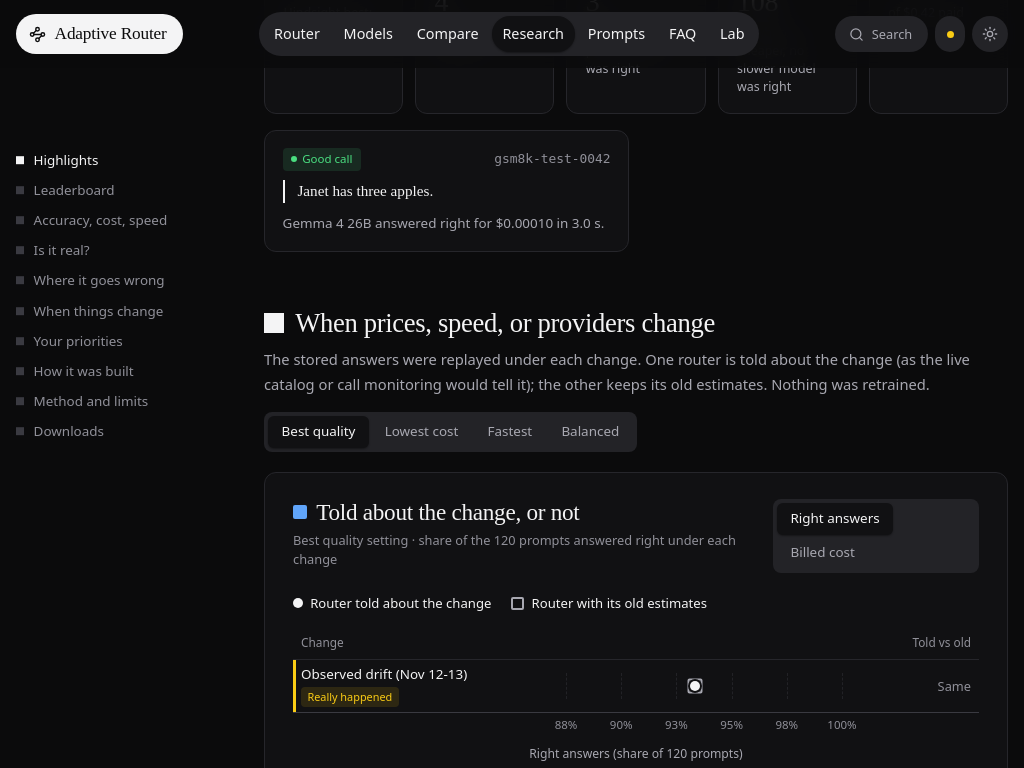
Test case: draws the robustness scenarios as dumbbells that follow the priority and the measure
The image size is (1024, 768).
(page scrolled)
Check: the text "Really happened" is shown, box 301,687 -> 399,707
Check: the text "Same" is shown, box 938,677 -> 971,695
Click the button "Fastest".
click(510, 432)  # box 474,416 -> 546,448
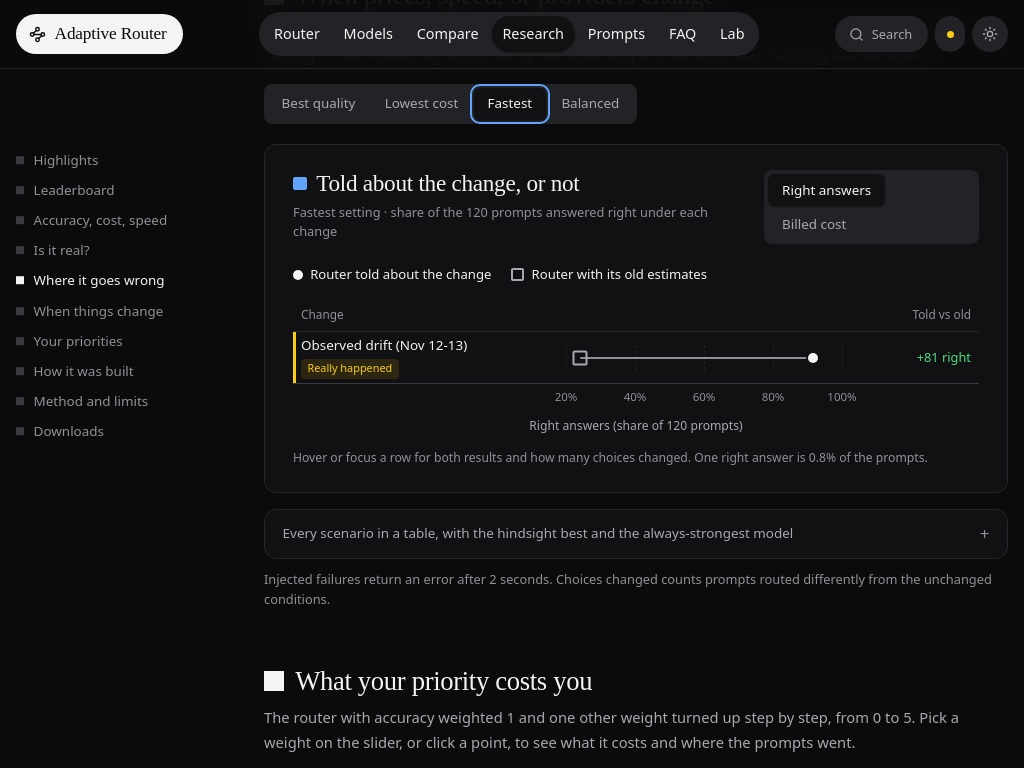
Check: the list item "Observed drift (Nov 12-13) Really happened +81 right" is shown
Check: the text "+81 right" is shown, box 917,348 -> 971,366
Focus the list item at [636, 357], box 293,331 -> 979,383
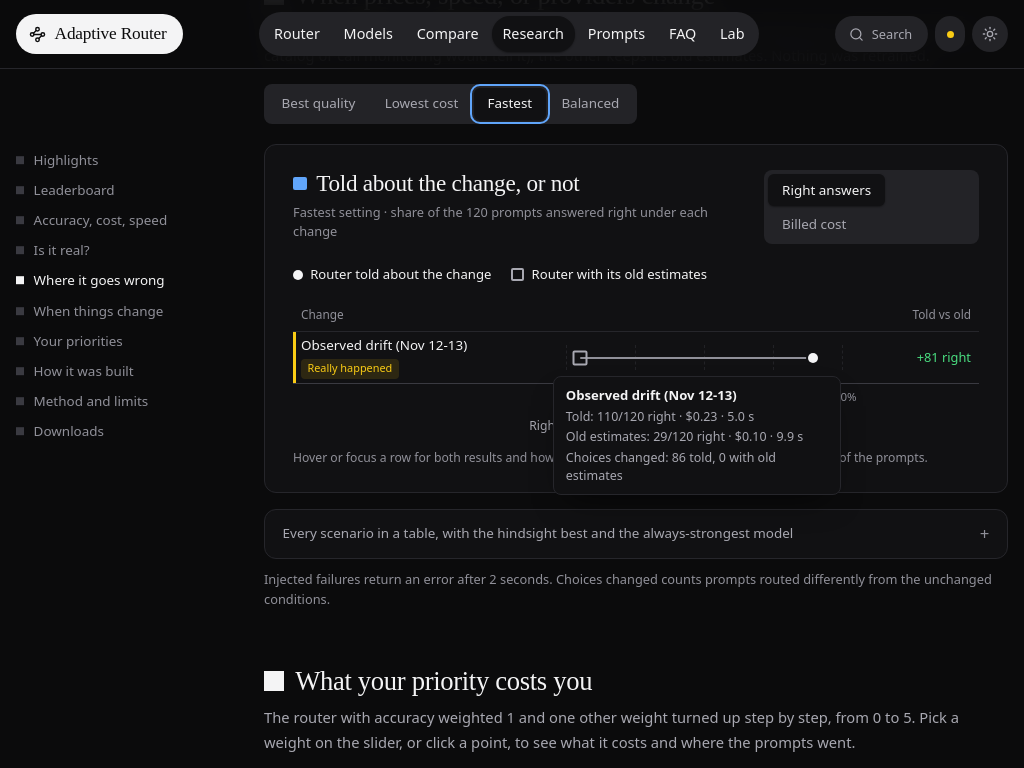
Check: the text "Choices changed: 86 told, 0 with old estimates" is shown, box 566,448 -> 776,484
Click the button "Billed cost".
click(814, 224)  # box 768,208 -> 860,240
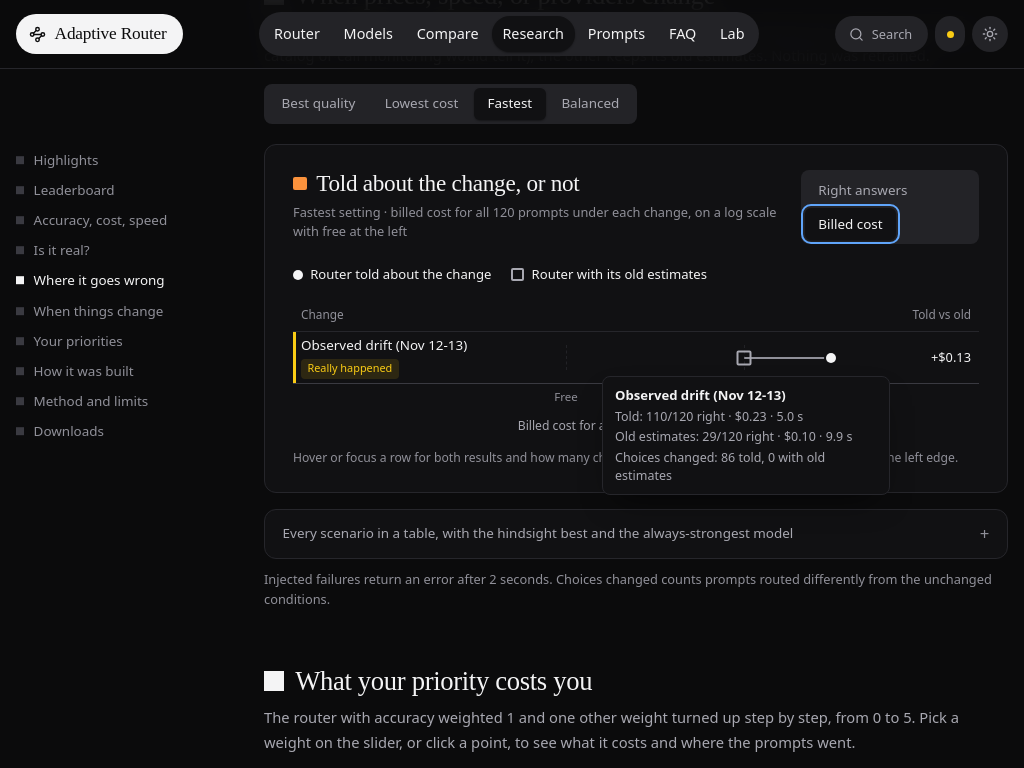
Check: the text "+$0.13" is shown, box 931,348 -> 971,366
